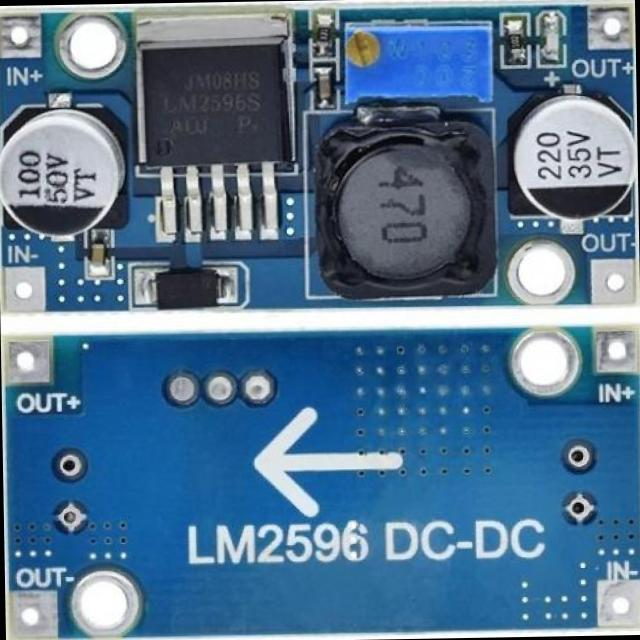IC: (135, 27, 302, 220)
LED: (540, 20, 561, 58)
capacitor: (0, 95, 133, 240), (512, 82, 638, 232), (313, 66, 335, 105), (86, 242, 108, 270)
diode: (136, 266, 238, 312)
potentiometer: (344, 19, 496, 110)
resistor: (508, 18, 529, 64), (314, 12, 332, 54)
